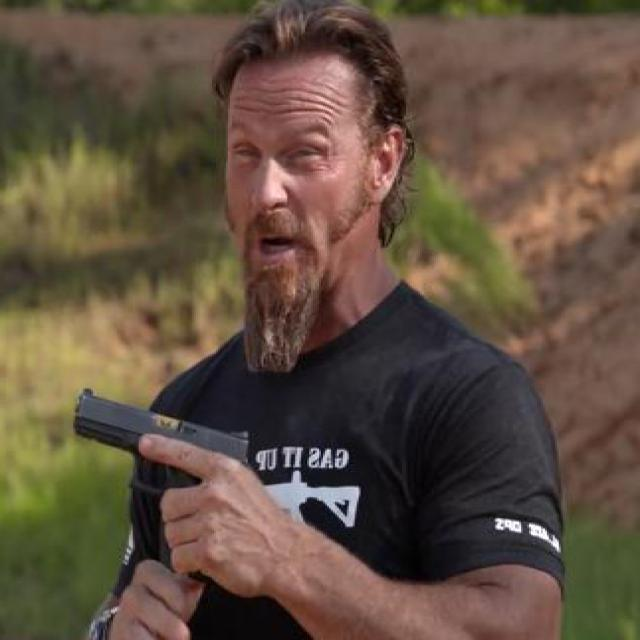Gun: (67, 384, 248, 572)
